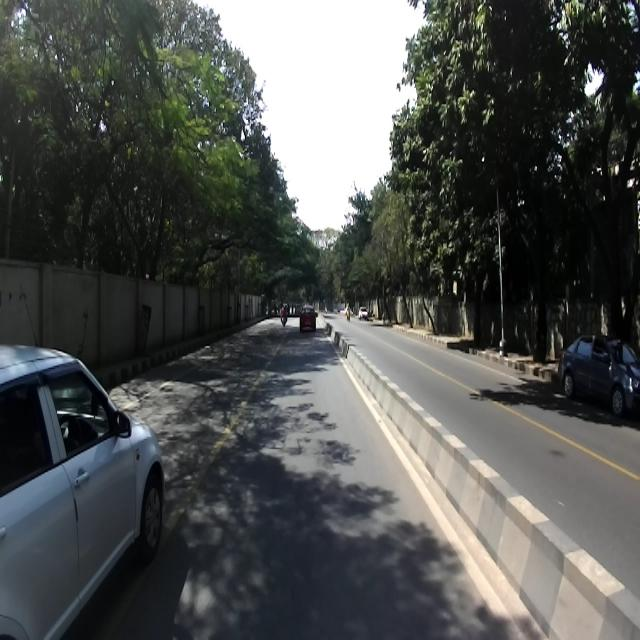Car_Honda: (558, 335, 640, 416)
Car_Maruti-Suzuki: (0, 345, 164, 639)
